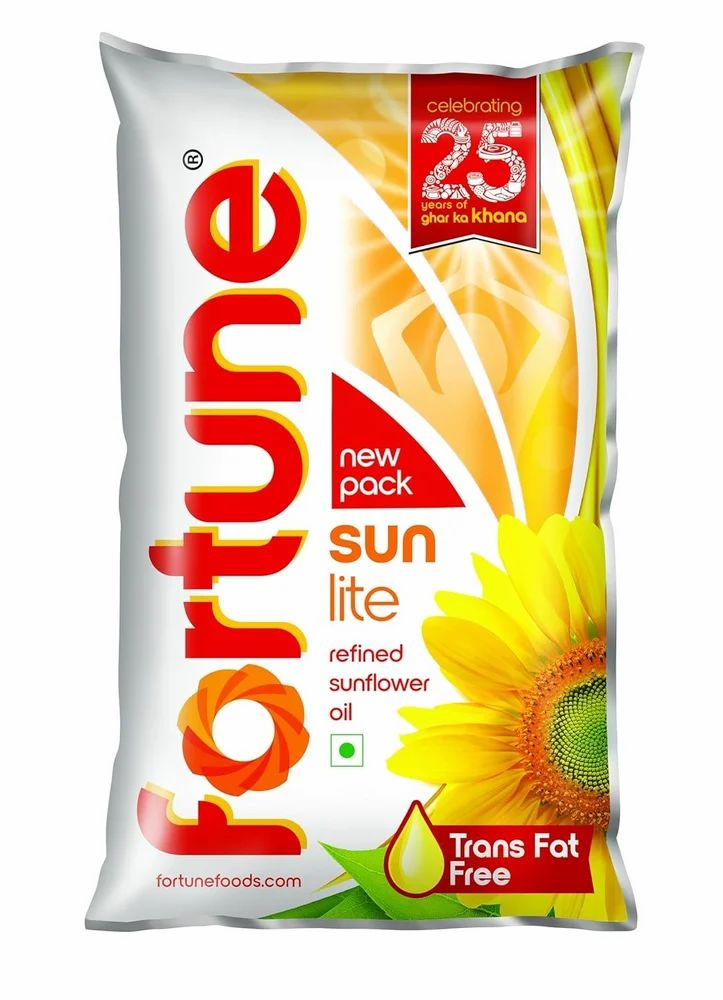Fortune Sunflower Oil: (36, 50, 687, 950)
